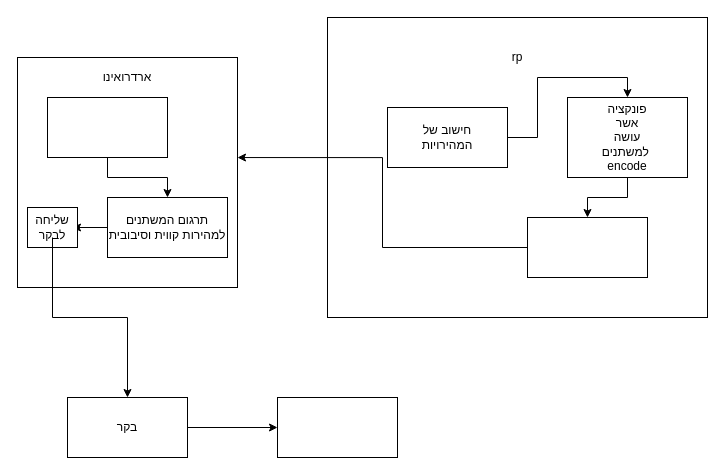
Image size: 725x475. Some labels were removed from this diagram. Here are the shapes that lost their labels. From the top down, the box of each, then its label:
(46, 96, 168, 158): קבלה של המשתנים מ rp
(526, 216, 648, 278): שליחה של המשתנים לארדרואינו
(276, 396, 398, 458): מנועים
